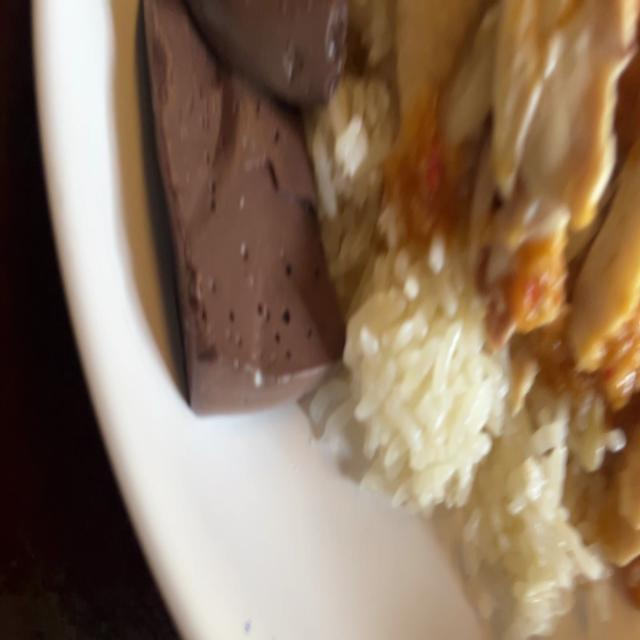boiled_chicken: (395, 0, 639, 446)
boiled_chicken_blood_jelly: (142, 0, 332, 393)
chicken_rice: (141, 0, 640, 602)
